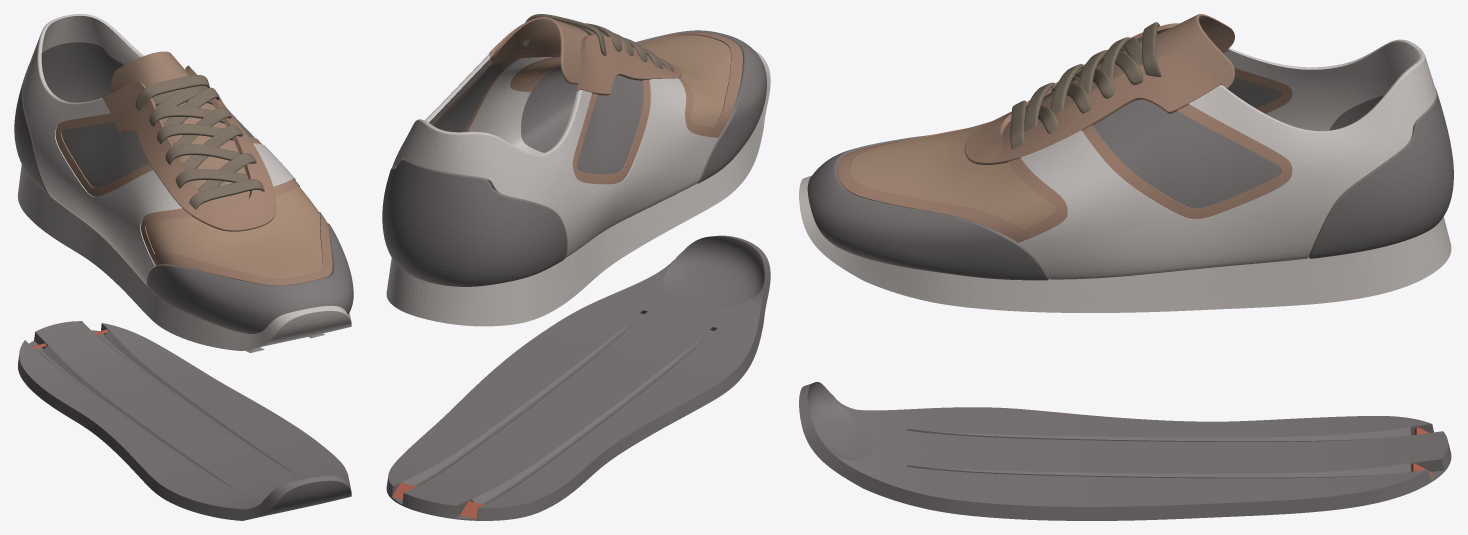
The model's file is shoe-modular-v1.glb.
3 renders of one model, left to right at view 1: azimuth 30°, elevation 25°; view 2: azimuth 150°, elevation 25°; view 3: azimuth 270°, elevation 25°, orthographic. The views are drawn at different scales.
Parts seen in each view (by area): view 1: empty_2; view 2: empty_2; view 3: empty_2.
Part boxes in pixels (x1=…): empty_2: x1=14, y1=14, x2=353, y2=520; empty_2: x1=382, y1=14, x2=770, y2=520; empty_2: x1=799, y1=14, x2=1453, y2=520.
Bounding box in the file's own units: 0.0935 × 0.1956 × 0.2569.
